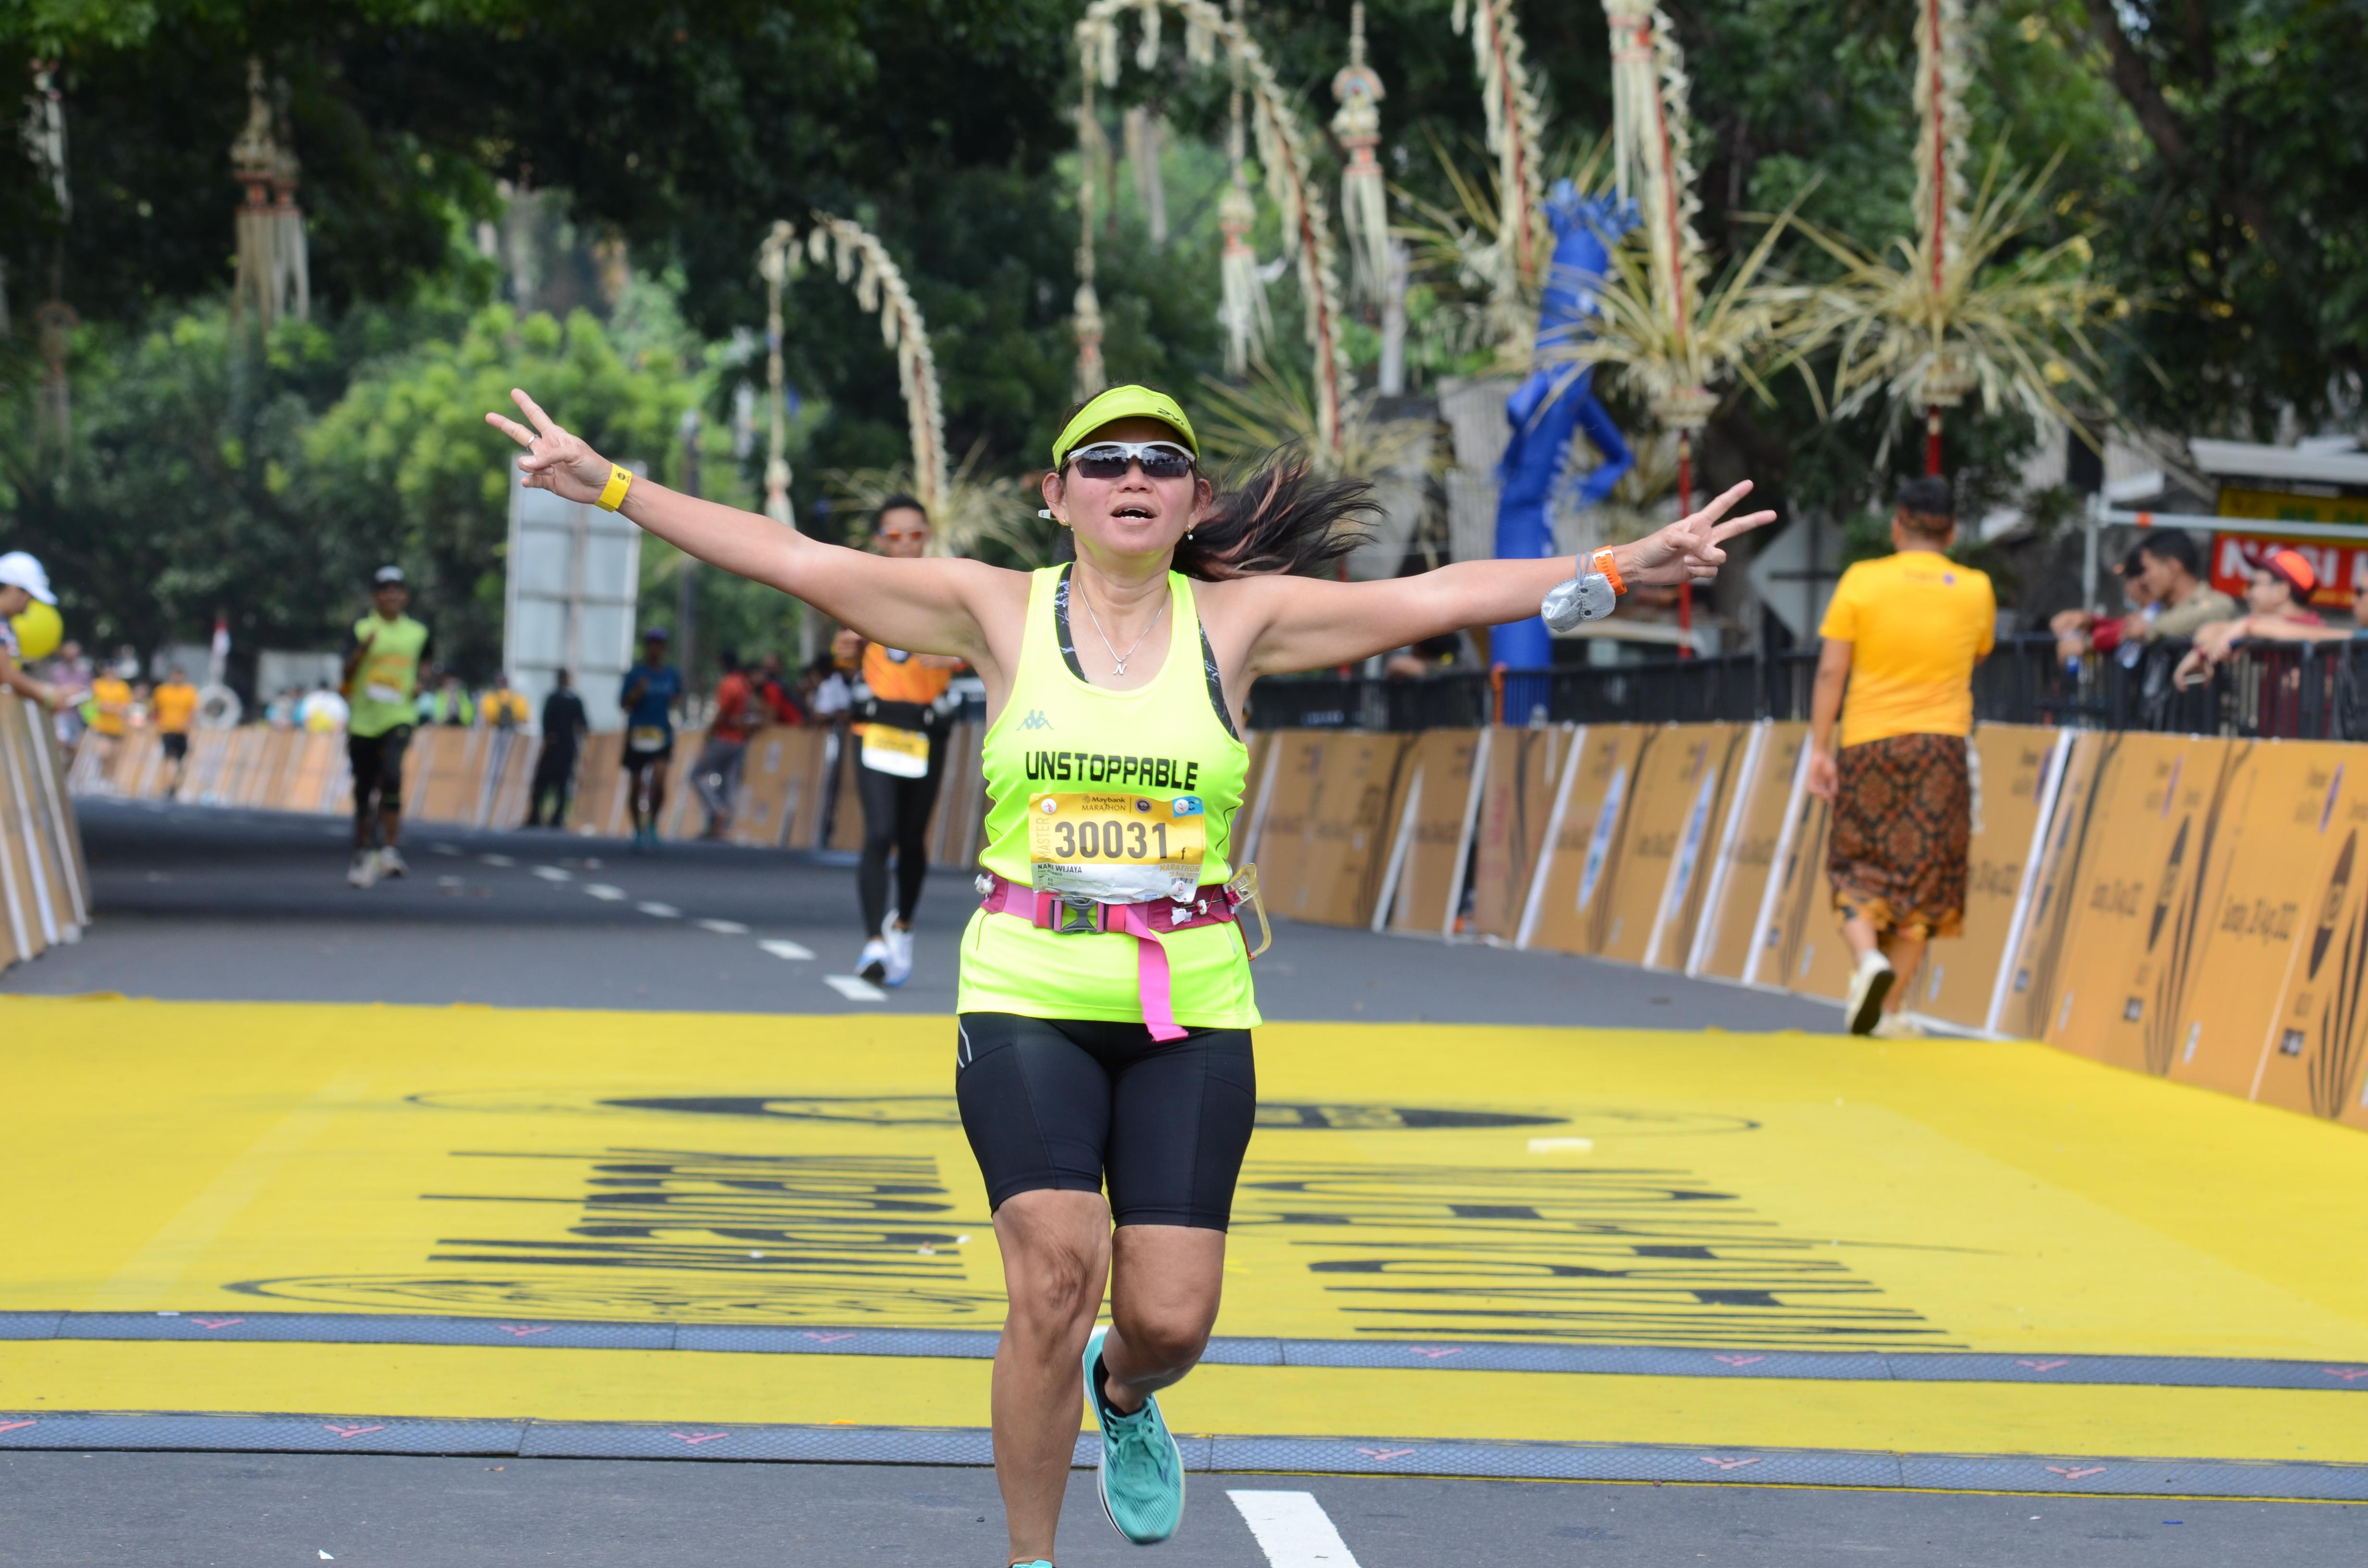bib: (1031, 789, 1202, 903), (863, 724, 929, 777), (366, 675, 404, 703)
